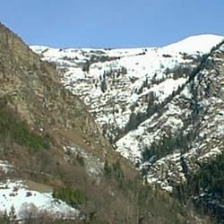neutral: (1, 5, 224, 222)
